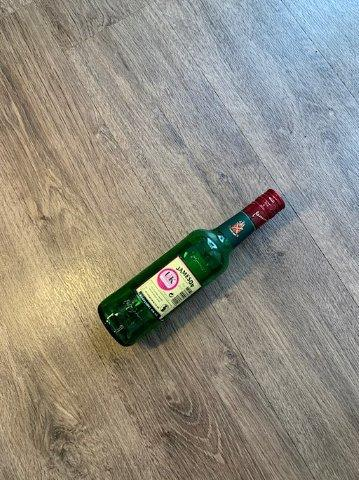botolkaca: (99, 191, 285, 346)
